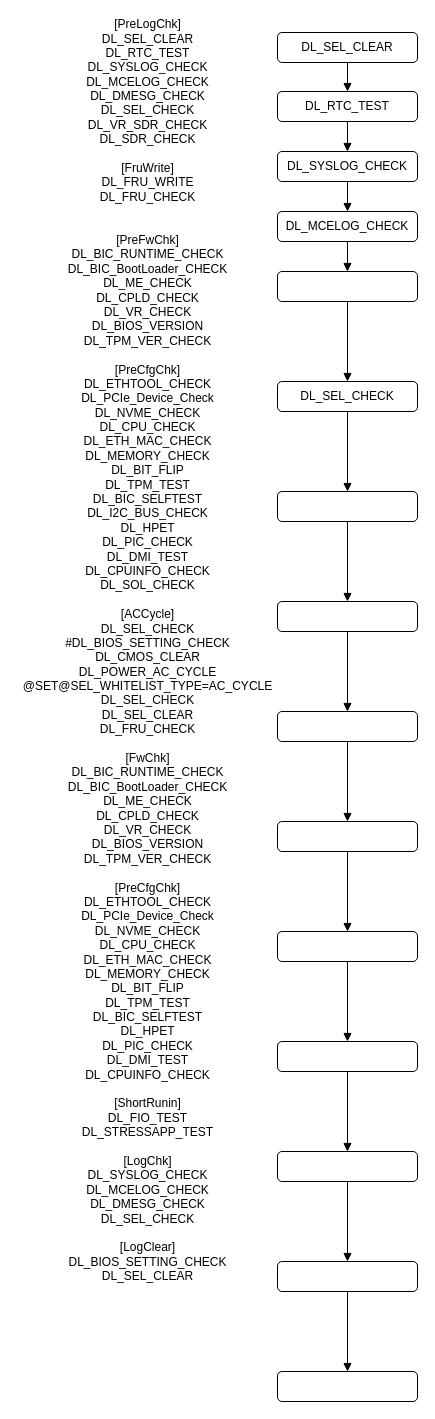
Some shapes in this 435 by 1419 pixel diagram are drawn without their labels. The shapes that lost their labels are listed below. From the top down, each one's centre as x and y in pixels, then its label:
(347,286): DL_DMESG_CHECK
(347,506): DL_VR_SDR_CHECK
